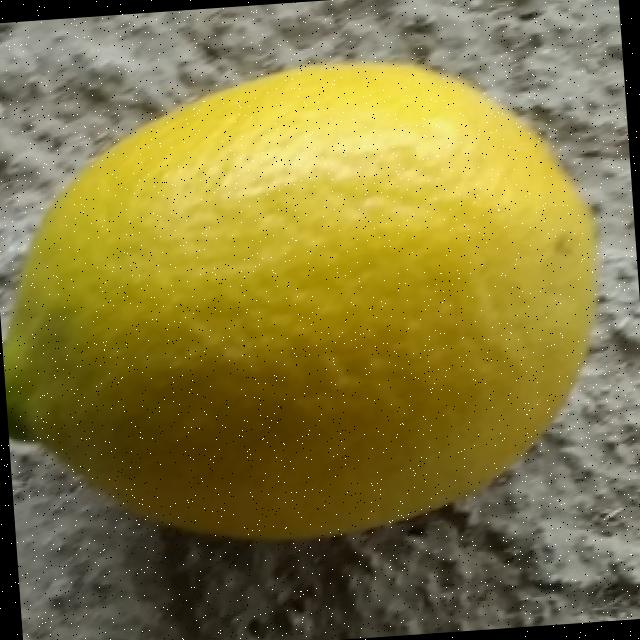Ripe: (0, 35, 623, 565)
